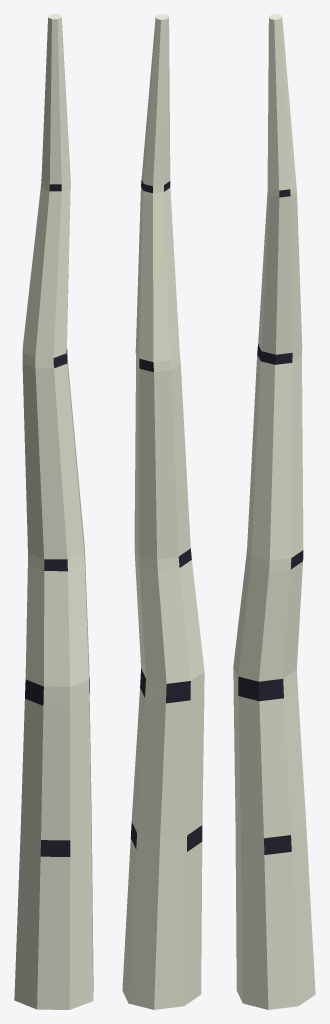
The model's file is Birch3_winter.FBX.
3 renders of one model, left to right at view 1: azimuth 90°, elevation 25°; view 2: azimuth 150°, elevation 25°; view 3: azimuth 330°, elevation 25°, orthographic.
Parts seen in each view (by area): view 1: Object011; view 2: Object011; view 3: Object011.
Part boxes in pixels (box(x1,y1,x2,y2)): Object011: box(14, 14, 93, 1009); Object011: box(122, 14, 204, 1009); Object011: box(233, 14, 315, 1009).
Bounding box in the file's own units: 0.4635 × 6.52 × 0.4788.
